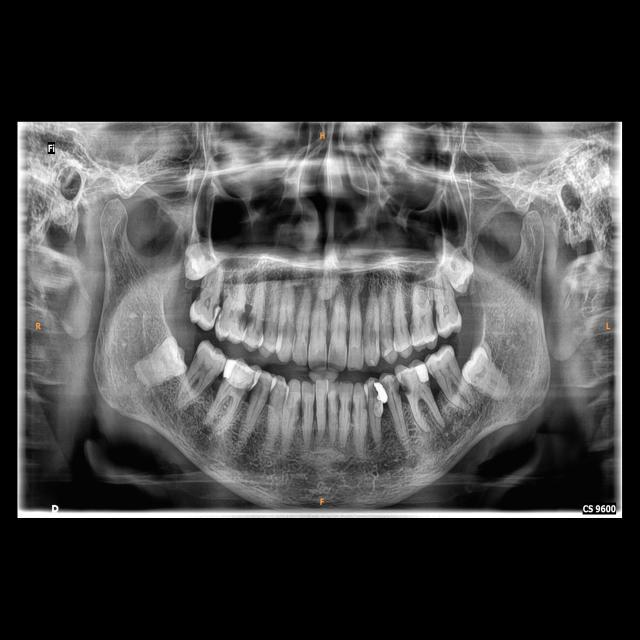dentin-curugu: (233, 307, 249, 332), (251, 378, 265, 400), (401, 375, 414, 397), (392, 377, 402, 400), (381, 333, 390, 357), (351, 396, 360, 419), (249, 311, 258, 331), (346, 396, 352, 414)
dolgu: (369, 379, 388, 402), (414, 362, 430, 386), (210, 302, 223, 322)
kaplama: (222, 359, 260, 391)
